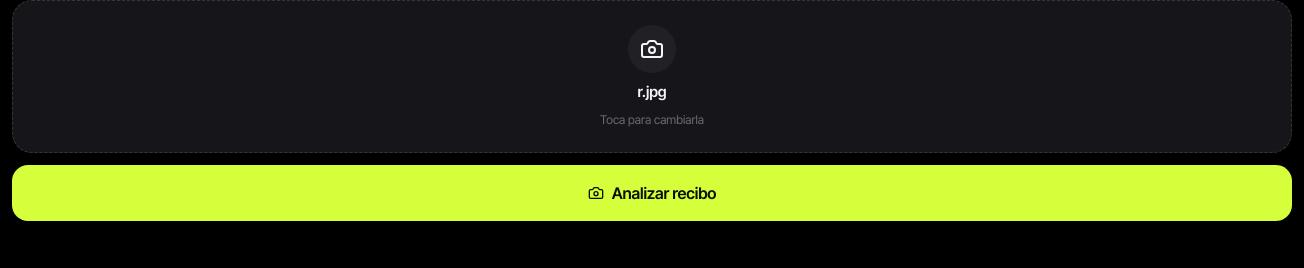
Test case: ReceiptUpload › tells the user the receipt is already saved instead of redirecting
Earlier steps of the test are not shown.
Click the button "Analizar recibo". click: (652, 192)
box: [12,164,1292,220]
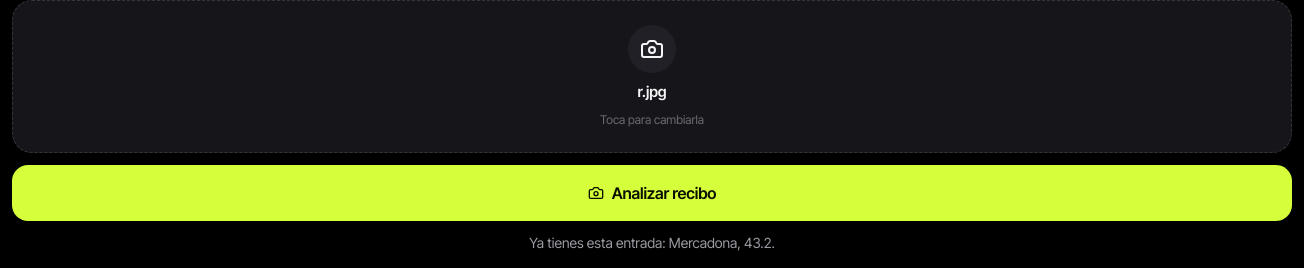
Check: the text "Ya tienes esta entrada: Mercadona, 43.2." is shown, box [529,234,775,250]
